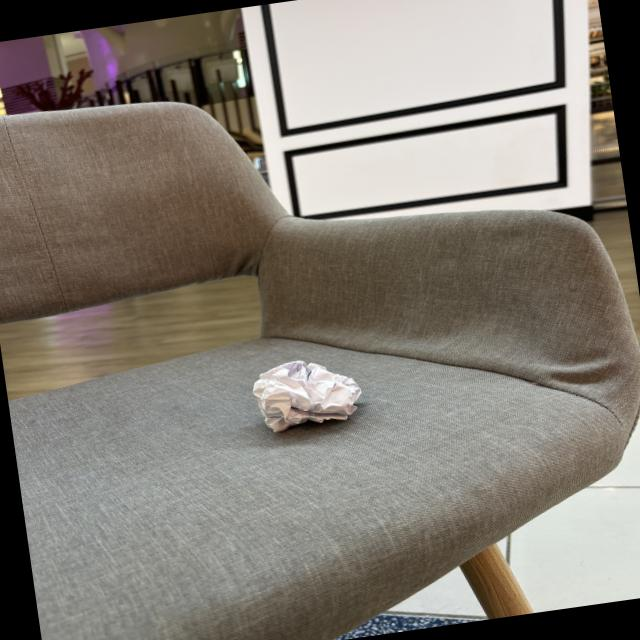crumpled_paper: (244, 348, 372, 448)
